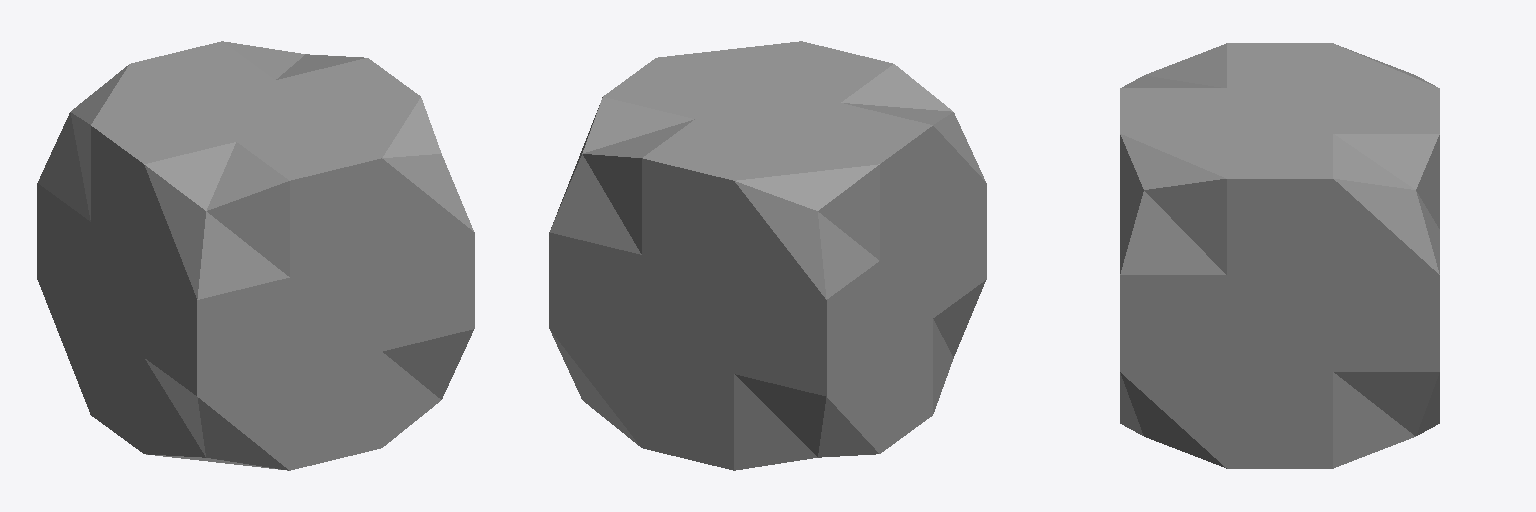
The model's file is ZombieDiceCube.obj.
3 renders of one model, left to right at view 1: azimuth 30°, elevation 25°; view 2: azimuth 150°, elevation 25°; view 3: azimuth 270°, elevation 25°, orthographic.
Visible parts, largest first — view 1: Cube; view 2: Cube; view 3: Cube.
Part boxes in pixels (left/top/right/bottom): Cube: left=37, top=41, right=474, bottom=470; Cube: left=549, top=41, right=986, bottom=470; Cube: left=1120, top=43, right=1439, bottom=468.
Bounding box in the file's own units: 2 × 2 × 2.